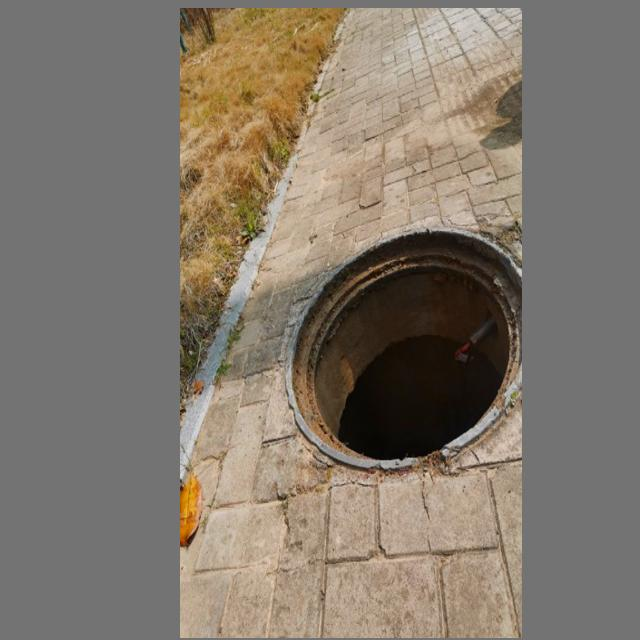lose: (284, 224, 522, 473)
